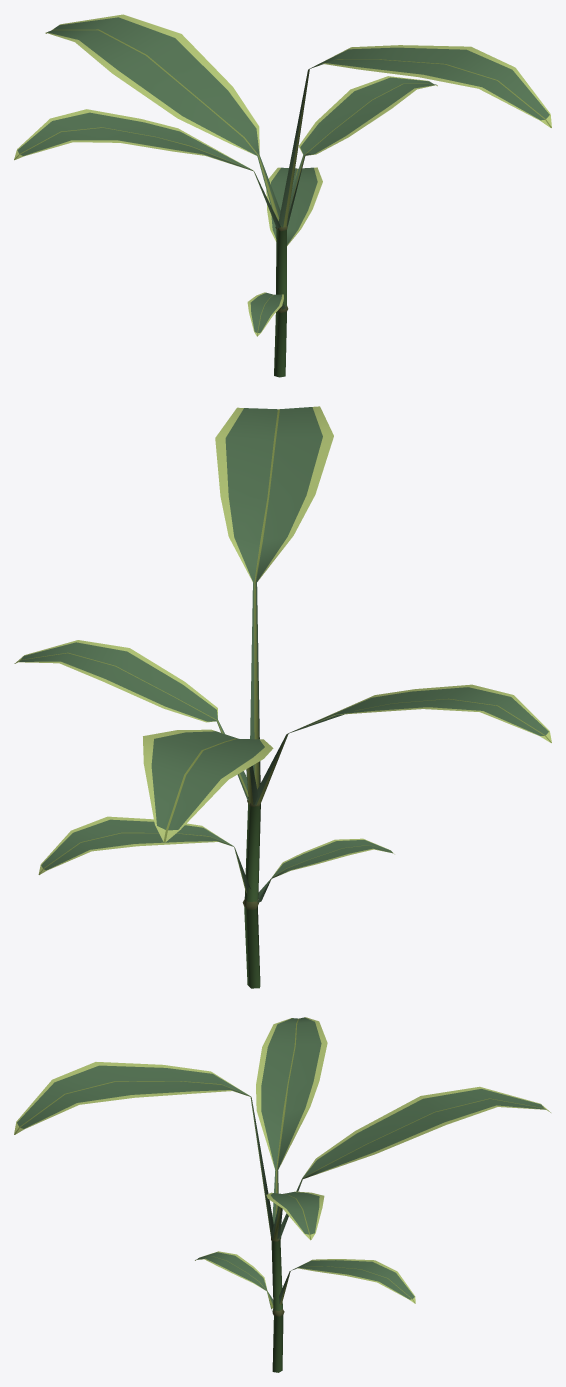
File: JunglePlant_08.glb
3 views of the same model, one above another, from view 1: azimuth 30°, elevation 25°; view 2: azimuth 150°, elevation 25°; view 3: azimuth 270°, elevation 25° (orthographic). The views are drawn at different scales.
Visible parts, largest first — view 1: JunglePlant_08; view 2: JunglePlant_08; view 3: JunglePlant_08.
Boxes of the visible parts, <box> form: JunglePlant_08: <box>14,14,551,377</box>; JunglePlant_08: <box>14,406,551,988</box>; JunglePlant_08: <box>14,1017,550,1372</box>.
Bounding box in the file's own units: 0.8707 × 0.703 × 1.05.
Materials: 1 (1 with a texture image).
